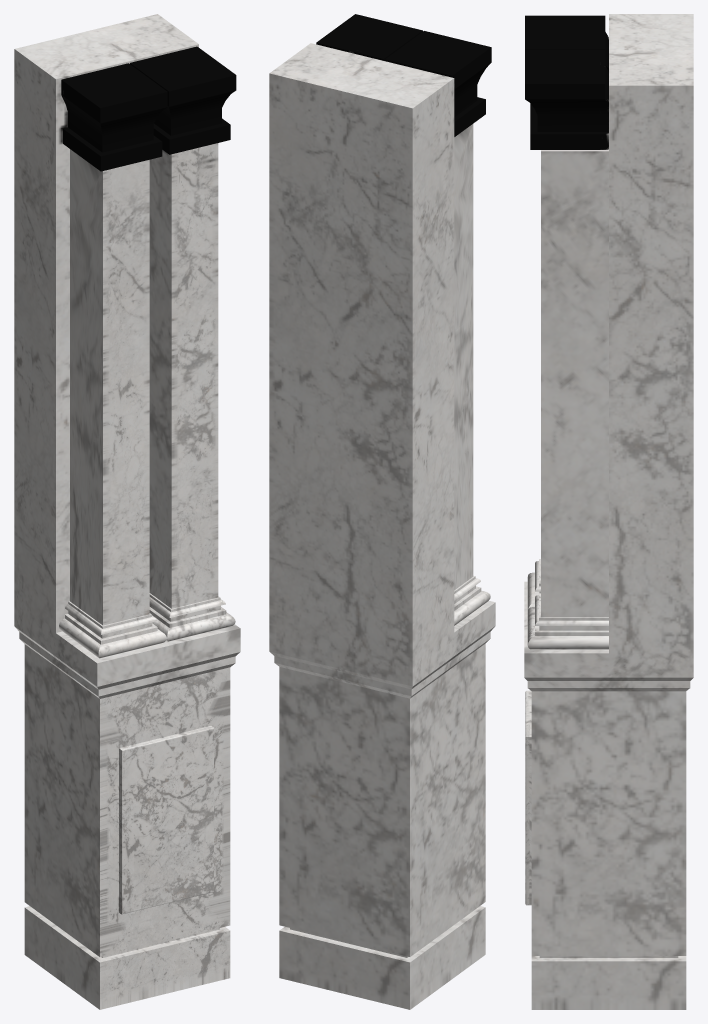
Rendered from pillar_main_with_texture.fbx.
3 views of the same model, side by side, from view 1: azimuth 30°, elevation 25°; view 2: azimuth 150°, elevation 25°; view 3: azimuth 270°, elevation 25° (orthographic). The views are drawn at different scales.
Visible parts, largest first — view 1: main_pillar; view 2: main_pillar; view 3: main_pillar.
Boxes of the visible parts, box(x1,y1,x2,y2) form: main_pillar: box(14, 14, 240, 1009); main_pillar: box(269, 14, 495, 1009); main_pillar: box(524, 14, 693, 1009).
Bounding box in the file's own units: 4.8 × 28.96 × 4.8.
